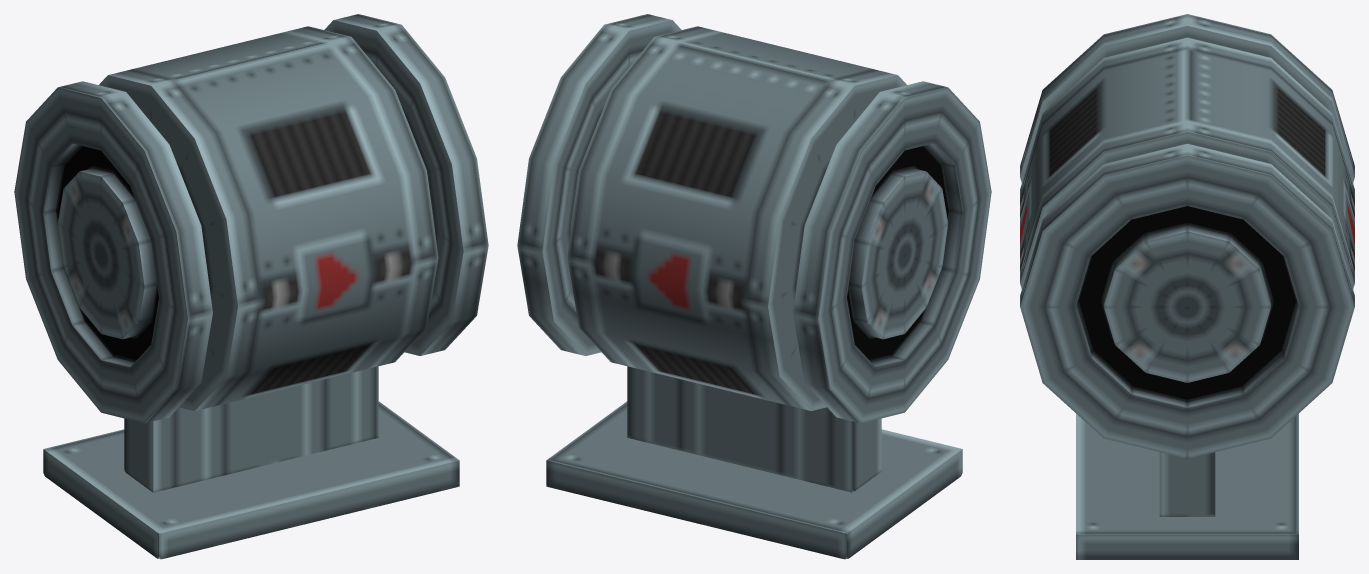
Rendered from coupler.obj.
The picture shows the model from 3 angles, left to right: view 1: azimuth 30°, elevation 25°; view 2: azimuth 150°, elevation 25°; view 3: azimuth 270°, elevation 25°; orthographic projection. The views are drawn at different scales.
Visible parts, largest first — view 1: Coupler; view 2: Coupler; view 3: Coupler.
Boxes of the visible parts, x1,y1,x2,y2 form: Coupler: [14, 14, 488, 559]; Coupler: [517, 14, 991, 559]; Coupler: [1020, 14, 1354, 559].
Bounding box in the file's own units: 3 × 4 × 3.
